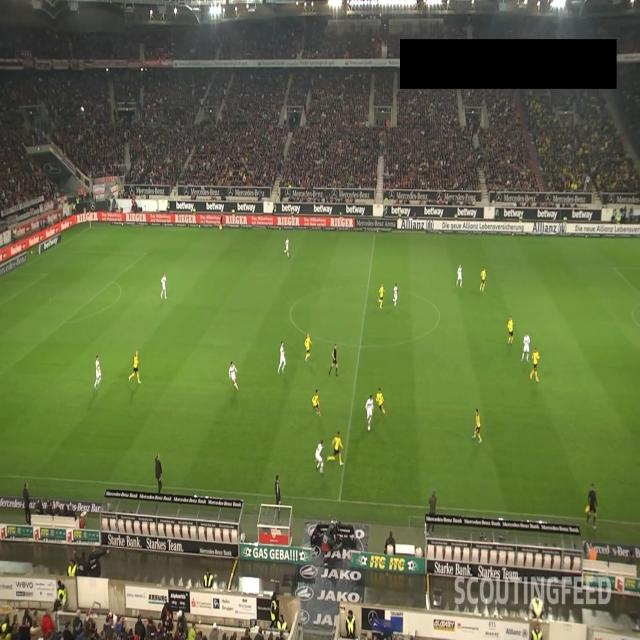ball: (367, 425, 371, 431)
